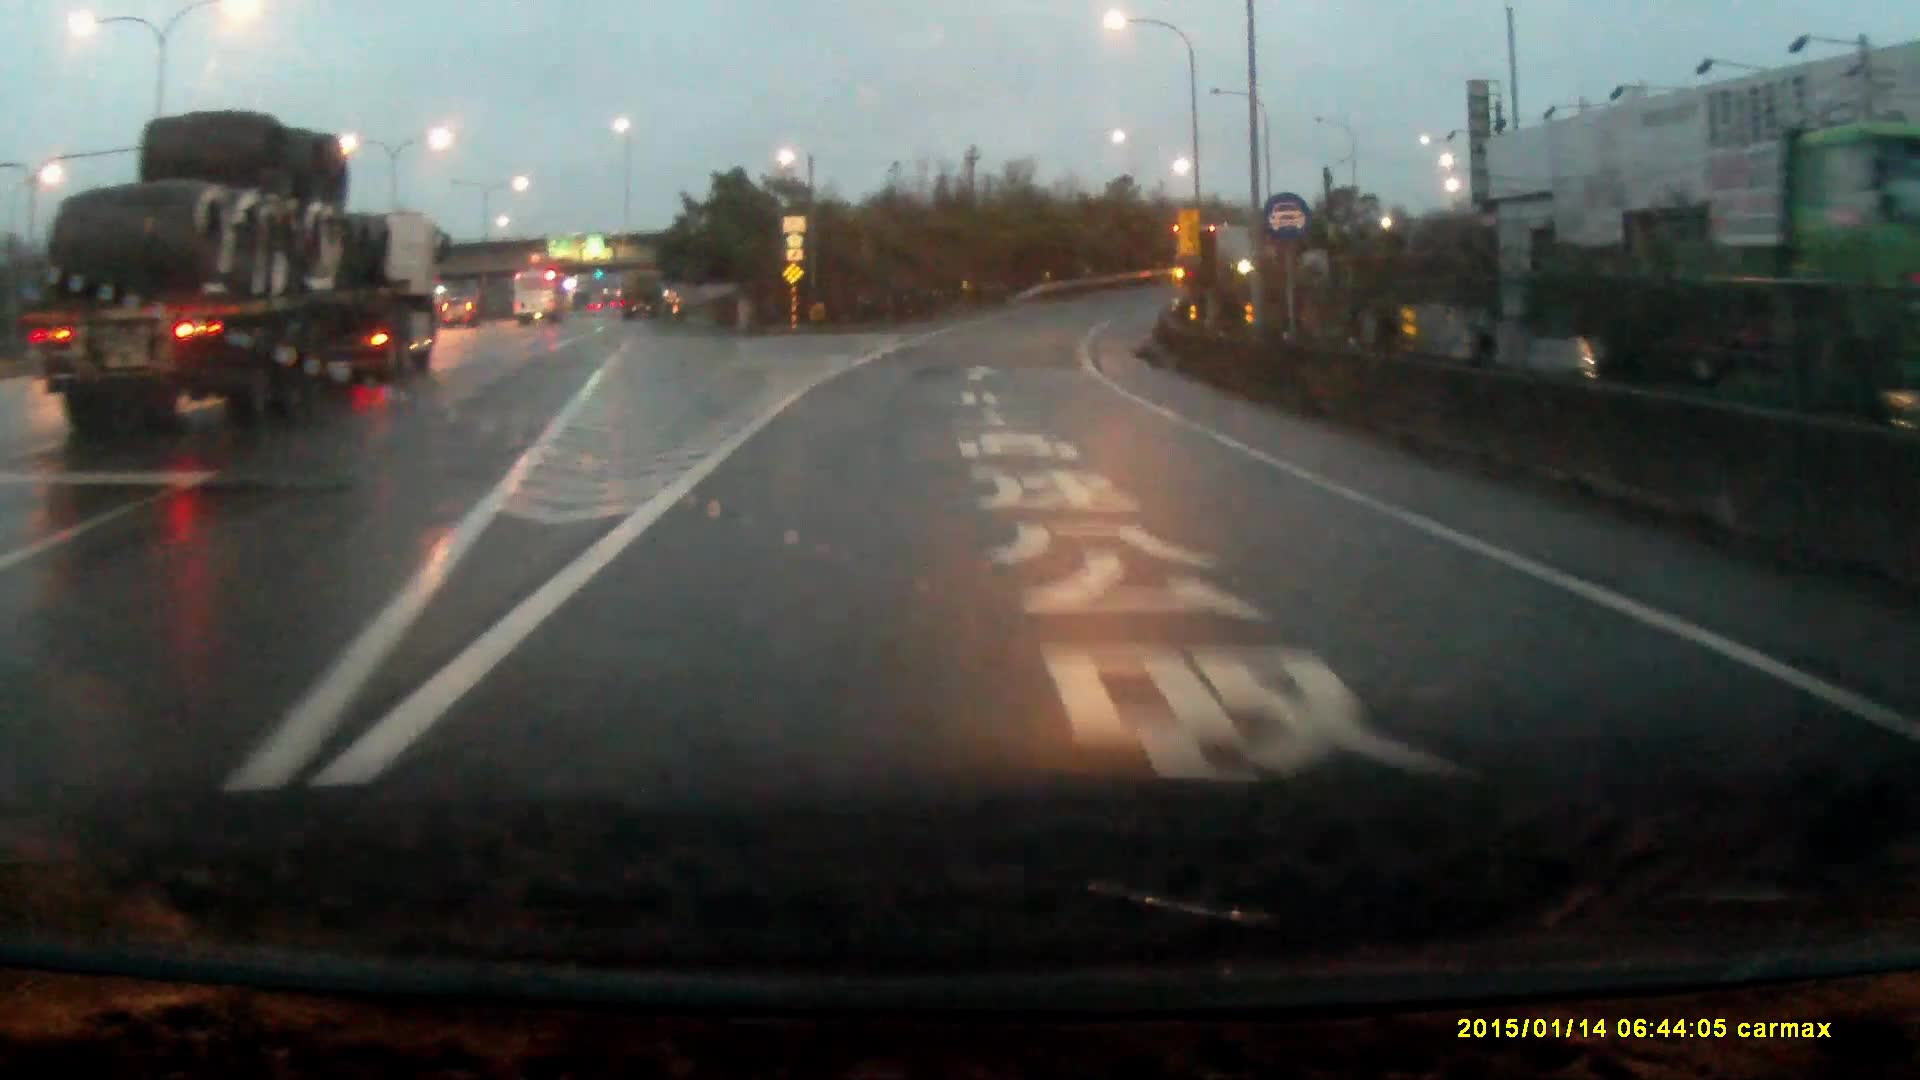vehicle: (40, 111, 448, 425), (512, 272, 570, 328), (442, 298, 480, 330)
